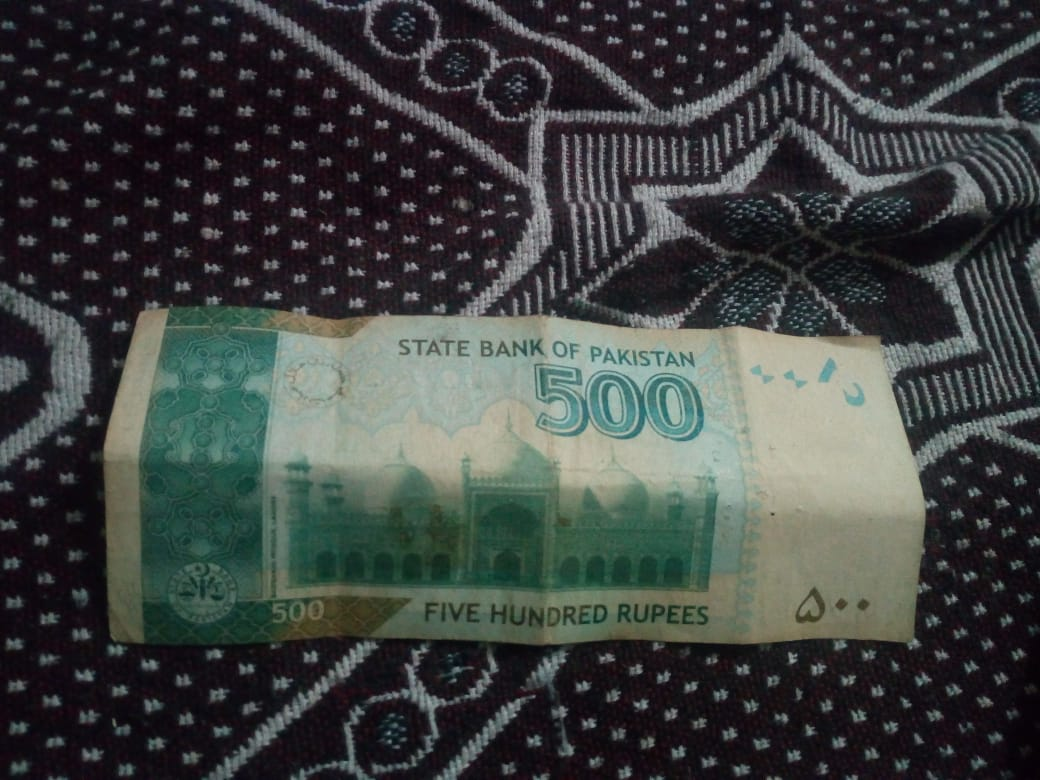500 rupee: (80, 300, 937, 672)
